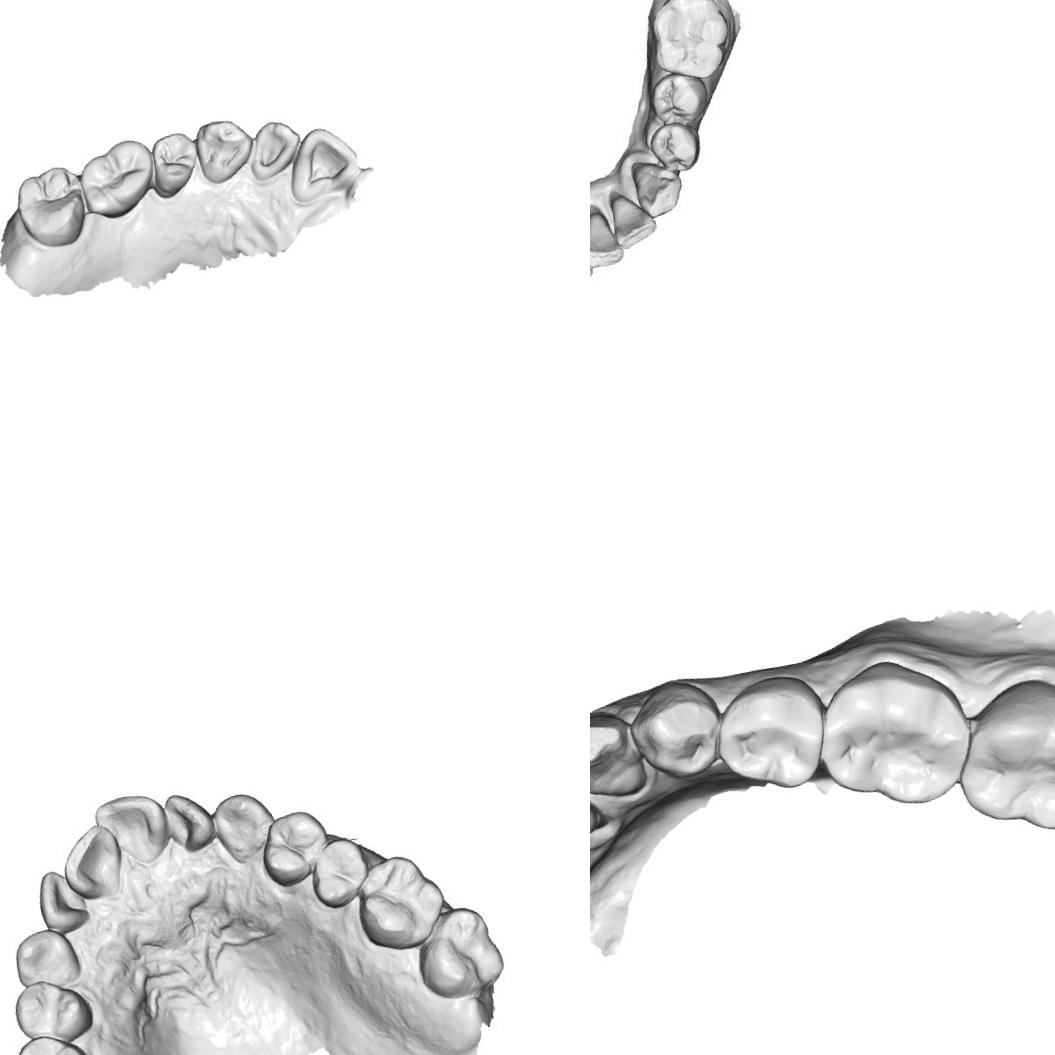canine: (590, 703, 651, 812), (210, 783, 276, 866), (189, 113, 258, 187), (8, 926, 81, 992), (627, 154, 688, 219)
incisor: (278, 120, 367, 207), (92, 788, 167, 866), (33, 865, 100, 938), (64, 824, 125, 902), (241, 114, 308, 183), (160, 786, 216, 854), (606, 190, 662, 250), (590, 209, 627, 272)
molar: (802, 646, 982, 820), (939, 664, 1055, 846), (353, 850, 450, 956), (414, 905, 508, 1004), (643, 0, 739, 87), (73, 134, 161, 224), (9, 160, 92, 252)
premolar: (702, 666, 836, 800), (621, 670, 732, 788), (8, 970, 98, 1046), (255, 808, 333, 890), (297, 836, 378, 912), (646, 67, 714, 130), (146, 128, 204, 199), (644, 116, 706, 178), (8, 1023, 89, 1055)
